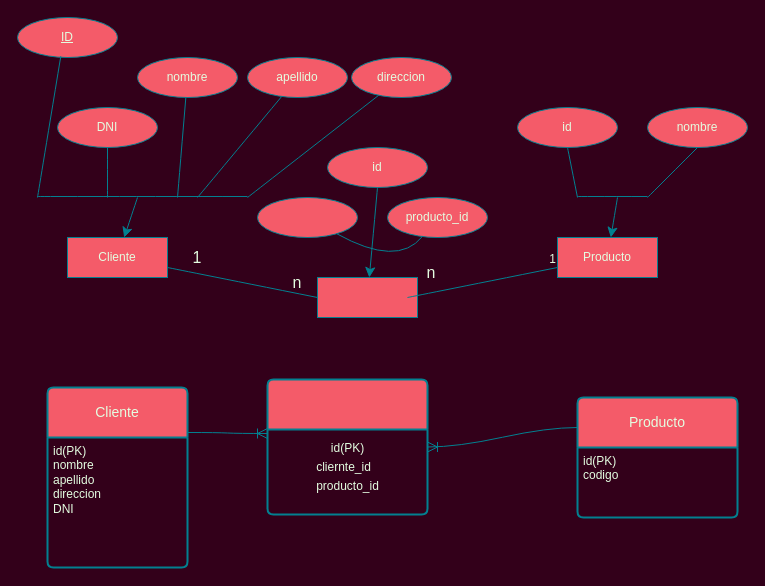
The diagram is 765 pixels wide and 586 high, and some of its shapes have lost their labels. The box of each missing label's shape, as (x1, y1, x2, y2) in pixels:
cliente_producto Compra: (316, 276, 418, 318)
cliernte_id: (256, 196, 358, 238)
Compra: (266, 378, 428, 515)
